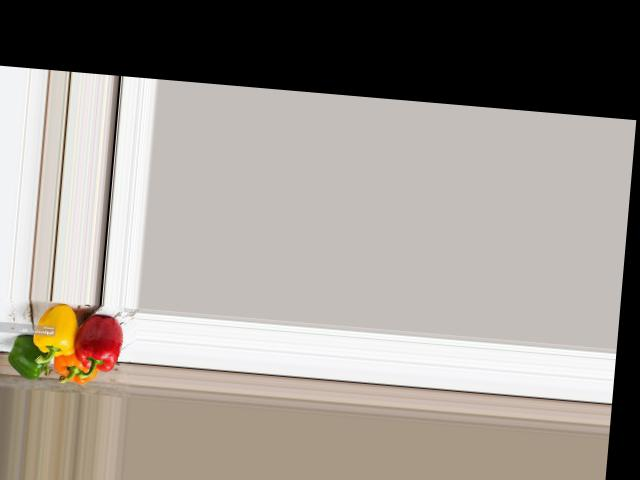bell_pepper: (50, 350, 100, 386)
